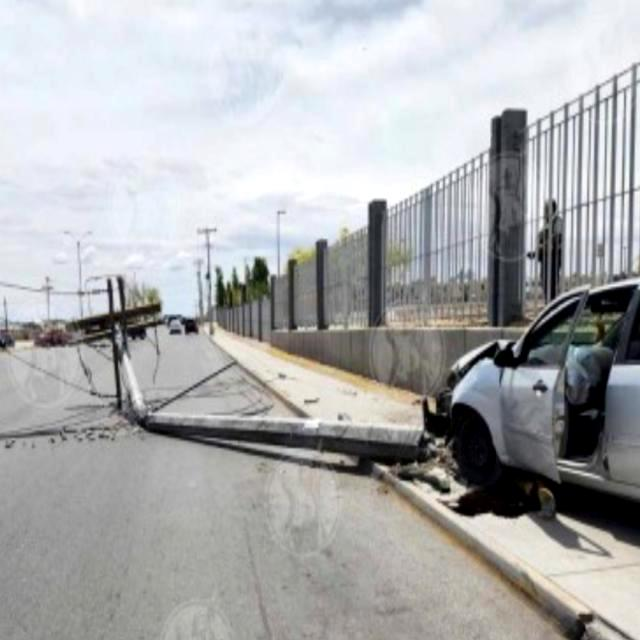Broken Pole: (108, 273, 439, 472)
